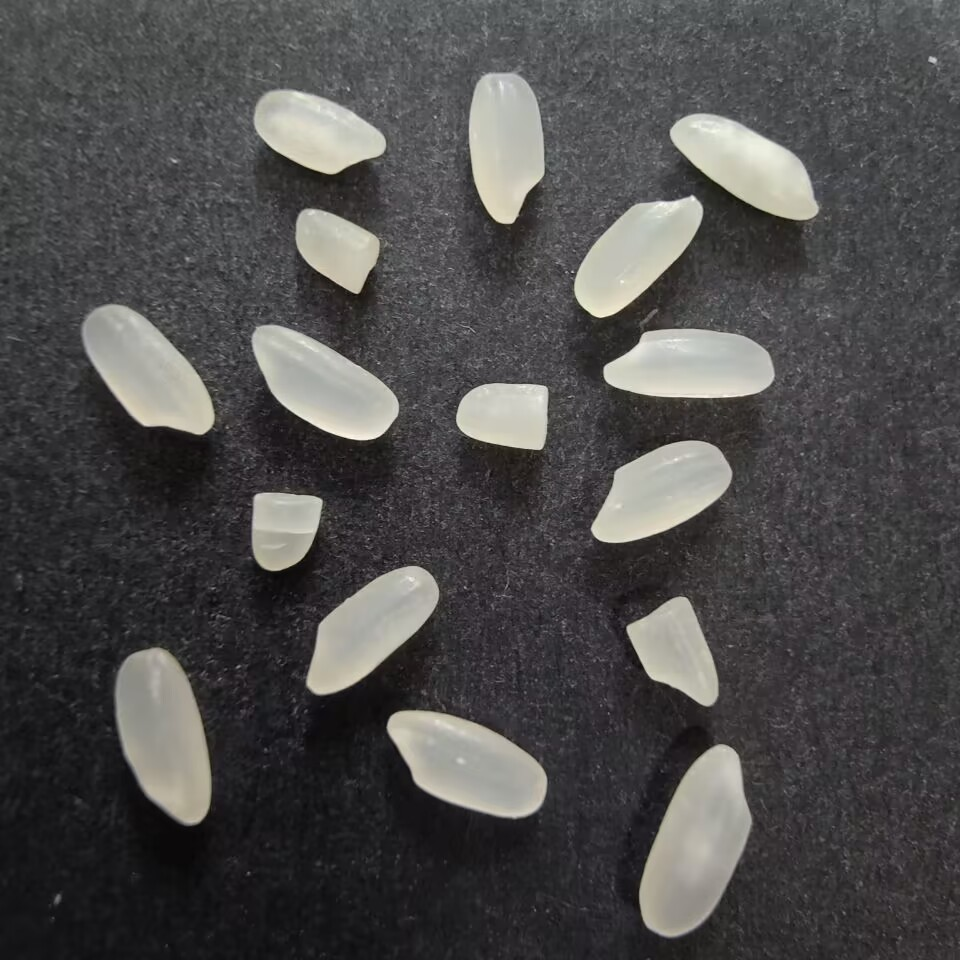broken: (623, 591, 720, 713), (292, 205, 383, 299), (451, 376, 552, 454), (246, 488, 325, 578)
rice: (635, 740, 754, 939), (378, 707, 550, 822), (244, 322, 403, 446), (299, 563, 442, 699), (78, 301, 217, 437), (114, 647, 216, 829), (668, 109, 822, 222), (572, 193, 706, 321), (588, 438, 734, 547), (466, 67, 547, 230), (250, 84, 387, 179), (600, 328, 778, 400)
